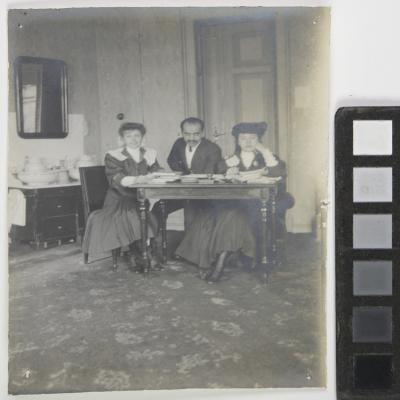photos_negatives: (16, 3, 327, 400)
